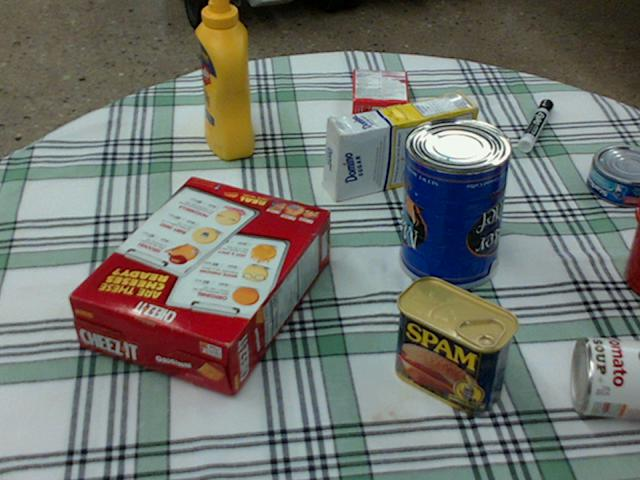cracker_box: (68, 179, 328, 394)
gelatin_box: (352, 68, 408, 119)
large_marker: (517, 98, 553, 151)
master_chef_can: (398, 116, 513, 287)
mug: (624, 202, 639, 295)
mustard_bottle: (195, 0, 253, 158)
potted_meat_can: (395, 277, 518, 412)
sugar_box: (323, 91, 477, 202)
tomato_soup_can: (572, 336, 639, 419)
tuna_fish_can: (588, 145, 639, 206)
